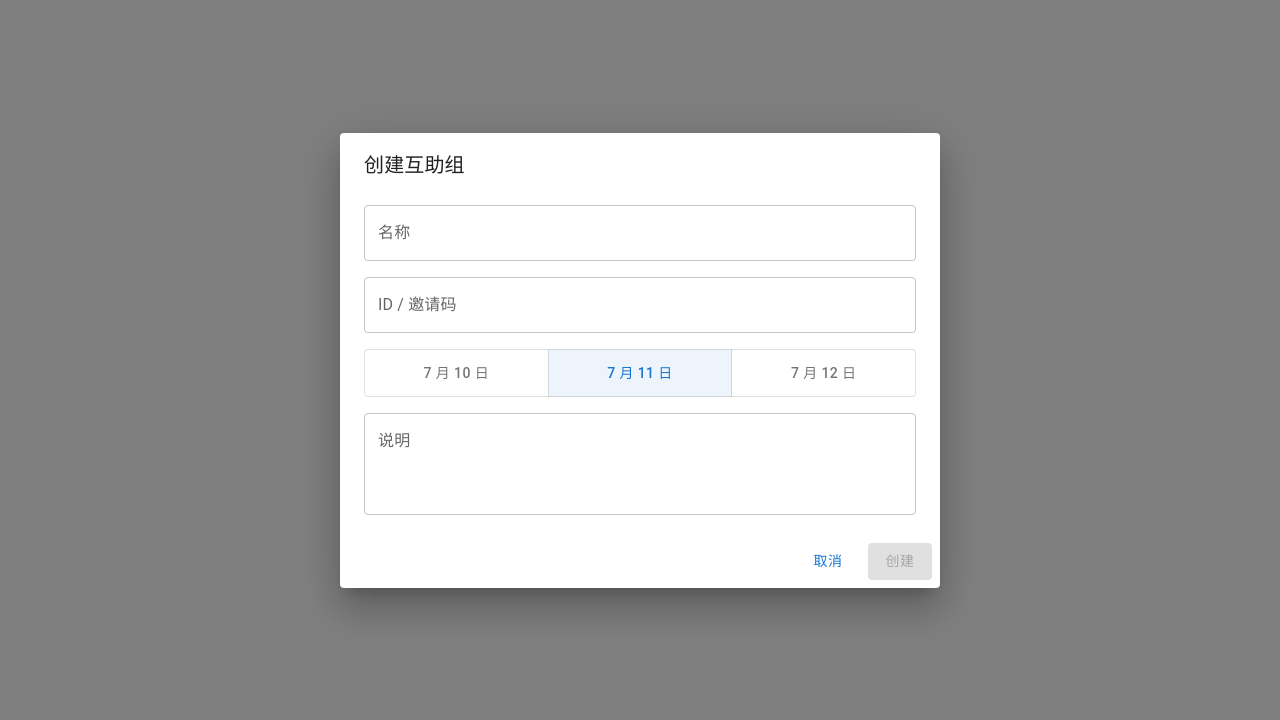
GroupDialogs › shows business error messages when group creation fails
In the field labelled "名称": (640, 232) [364,204,916,260], type "BW2026 周五"
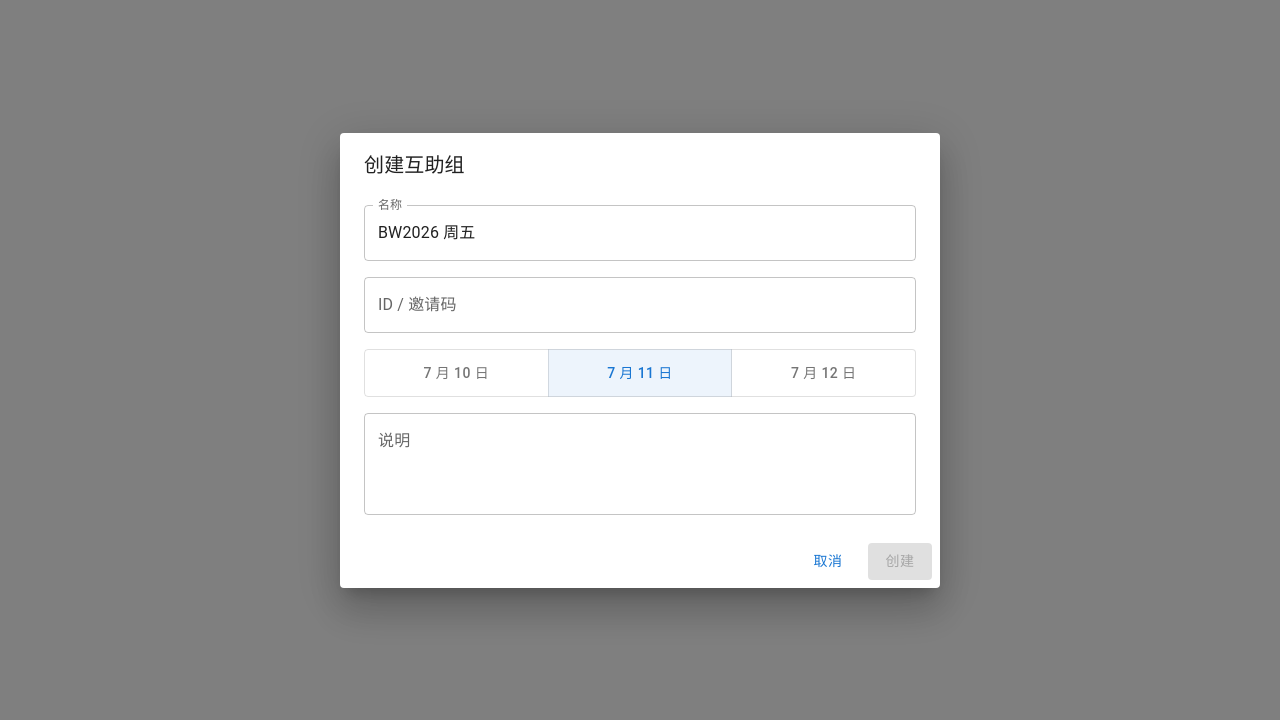
In the field labelled "ID / 邀请码": (640, 304) [364,276,916,332], type "bw2026-fri"
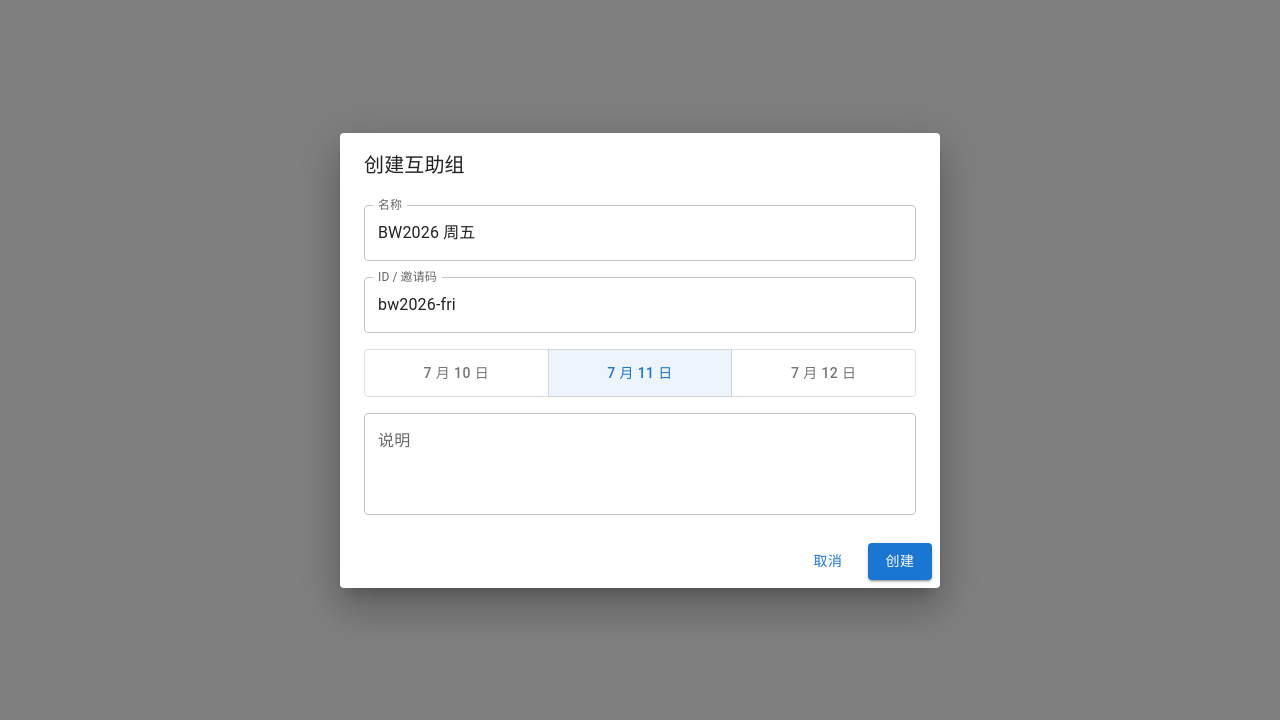
Click the button "创建": (900, 561) [868,543,932,580]
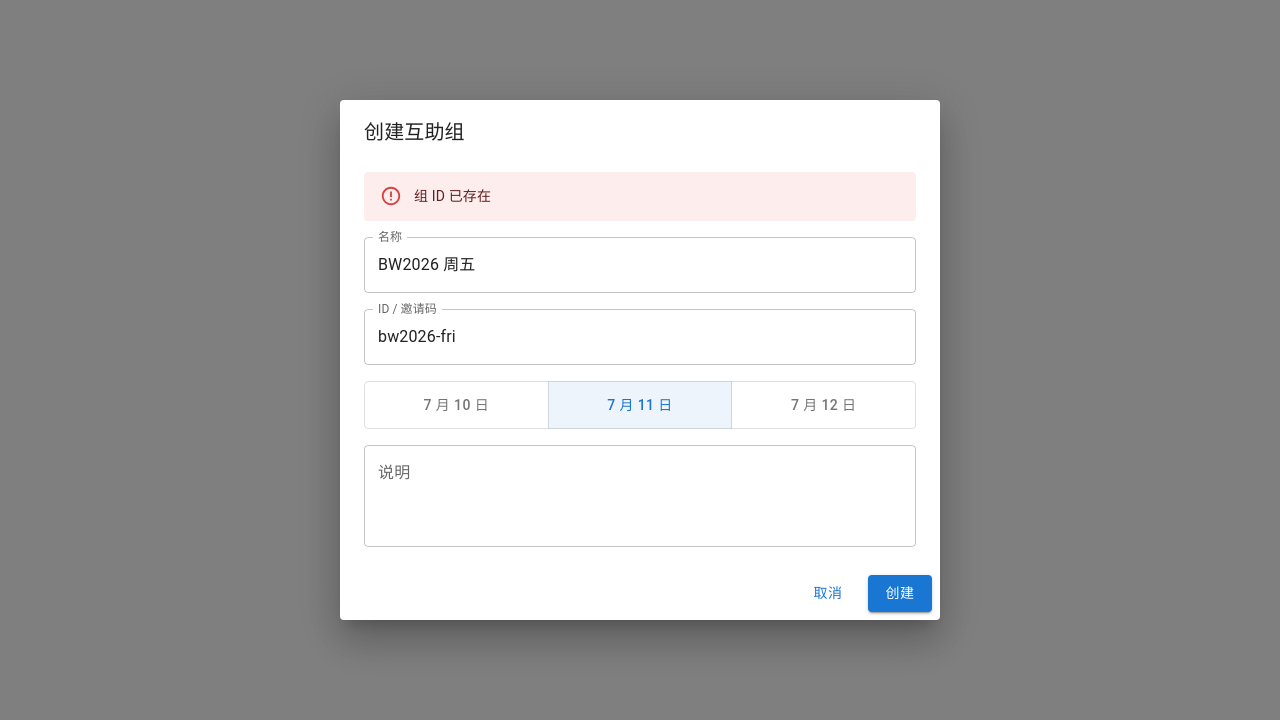
Expected: the text "组 ID 已存在" is shown, [414,188,491,204]
